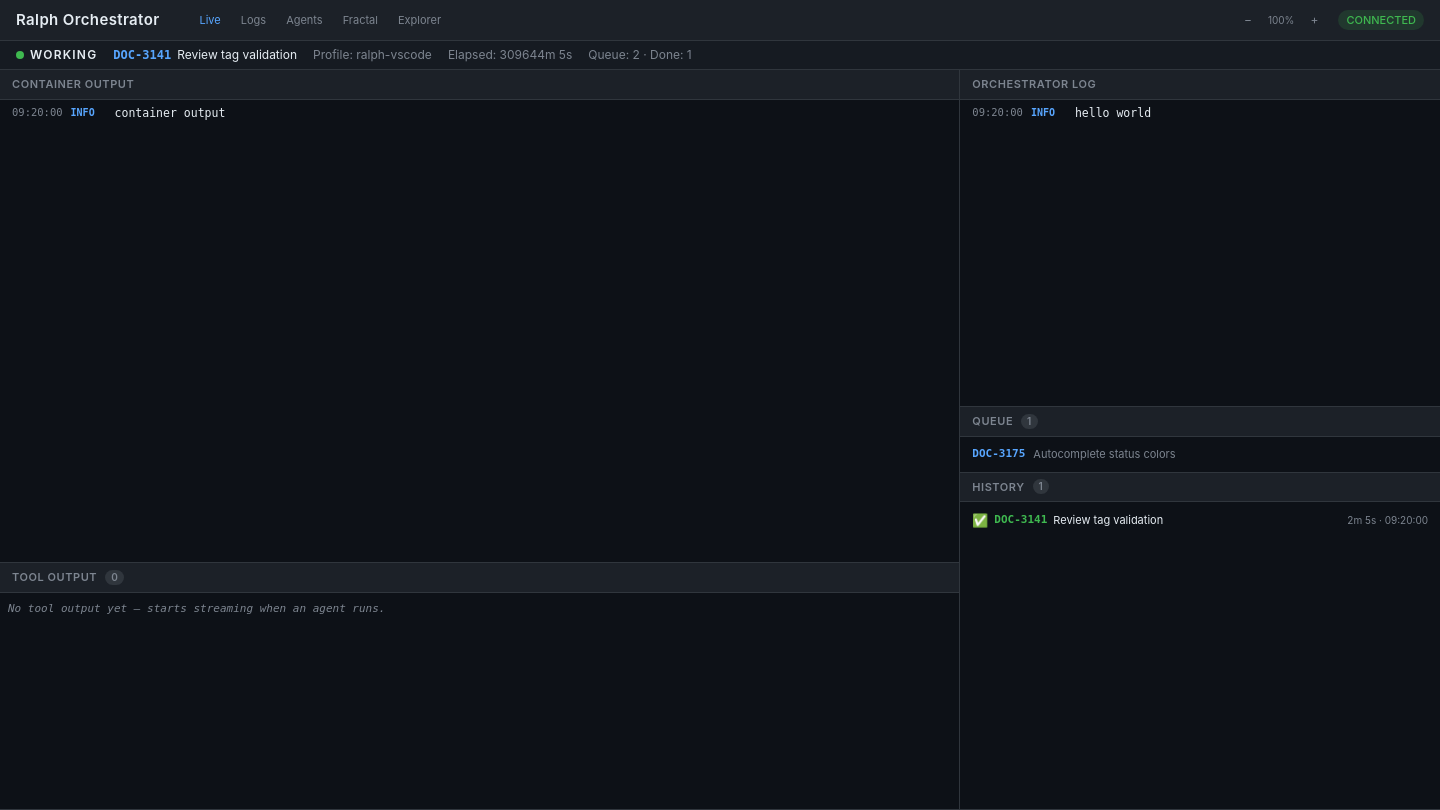
Scenario: App › switches from live view to the logs tab
Check: the text "Container Output" is shown, box [0,70,959,100]
Click the button "Logs": (254, 20) [233,10,274,30]
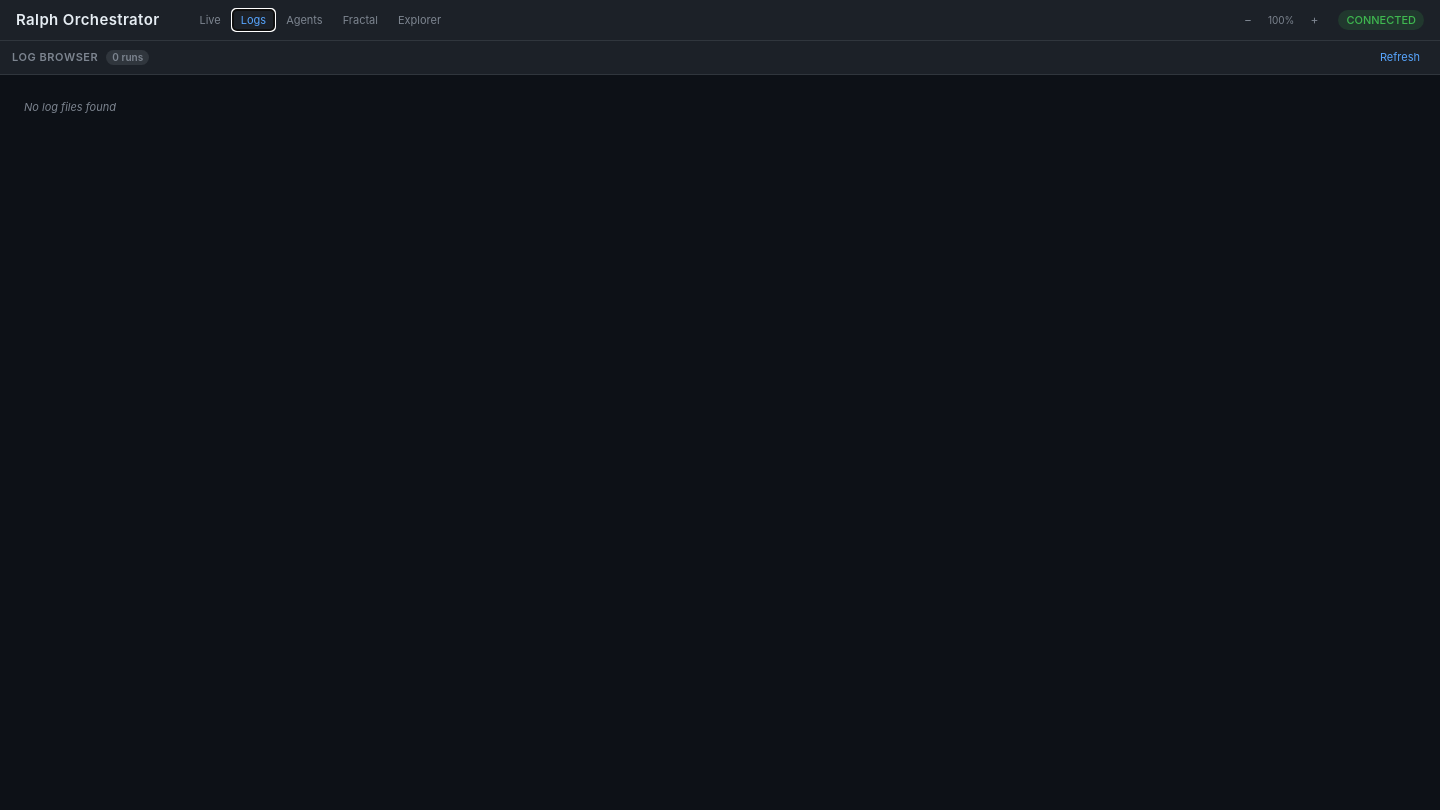
Check: the text "Log Browser" is shown, box [12,49,98,66]
